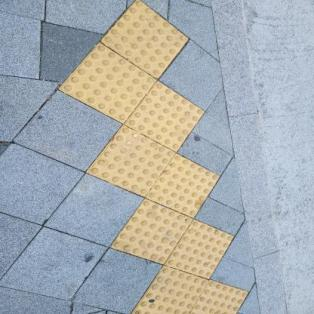Podoctatil: (51, 0, 254, 313)
